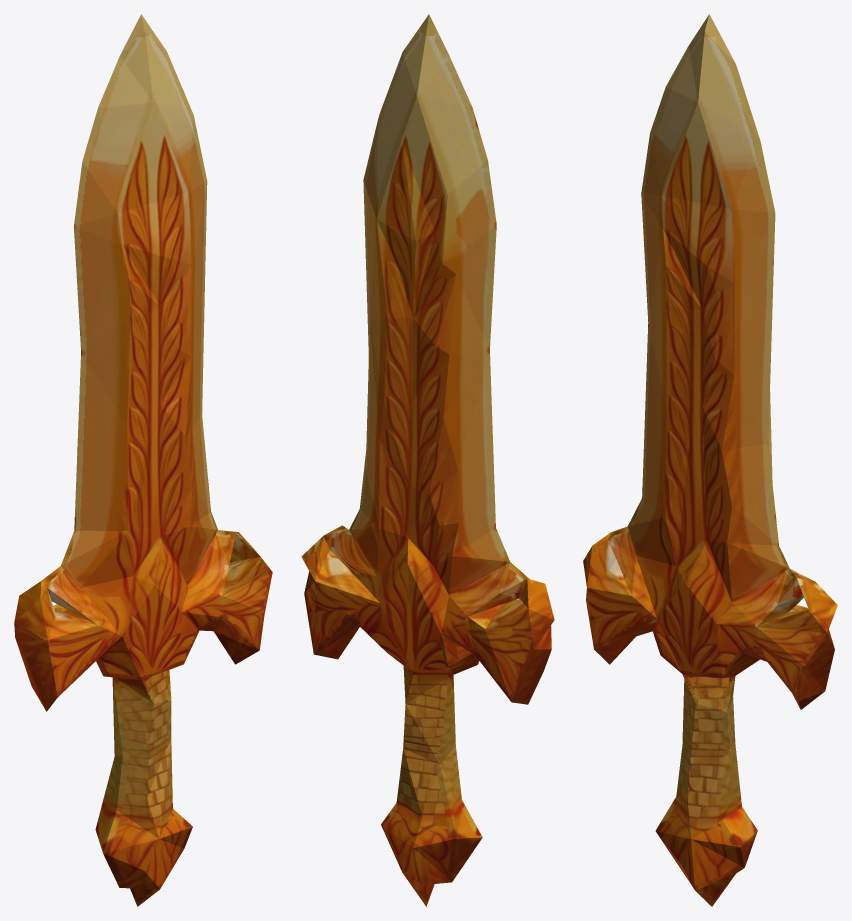
File: ornate_dagger.glb
3 renders of one model, left to right at view 1: azimuth 30°, elevation 25°; view 2: azimuth 150°, elevation 25°; view 3: azimuth 330°, elevation 25°, orthographic.
Visible parts, largest first — view 1: TexturedMesh_.obj; view 2: TexturedMesh_.obj; view 3: TexturedMesh_.obj.
Boxes of the visible parts, box(x1,y1,x2,y2) form: TexturedMesh_.obj: box(14, 14, 272, 906); TexturedMesh_.obj: box(301, 14, 554, 906); TexturedMesh_.obj: box(583, 14, 837, 906).
Bounding box in the file's own units: 0.5839 × 1.99 × 0.1553.
1 material, 1 textured.
